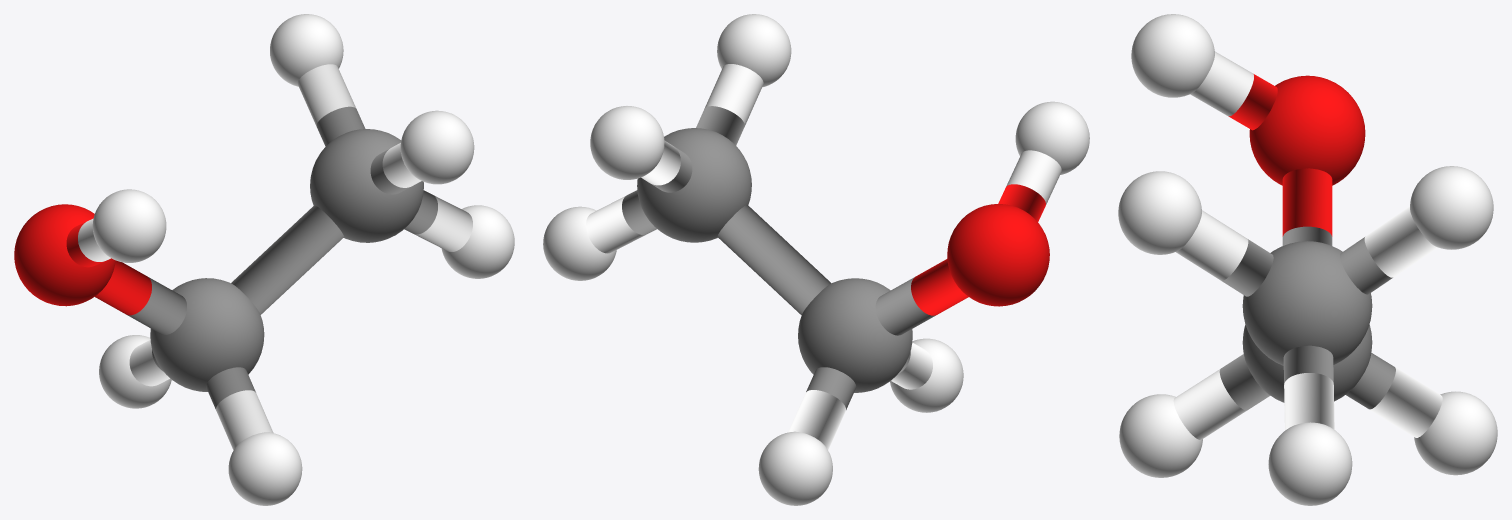
Rendered from 702.mol.obj.
3 renders of one model, left to right at view 1: azimuth 30°, elevation 25°; view 2: azimuth 150°, elevation 25°; view 3: azimuth 270°, elevation 25°, orthographic. The views are drawn at different scales.
Visible parts, largest first — view 1: C2_Atom, C3_Atom, O1_Atom, Cylinder11, H8_Atom, H9_Atom, H4_Atom, H7_Atom, H6_Atom, H5_Atom, Cylinder4, Cylinder10 (+11 smaller); view 2: C2_Atom, O1_Atom, C3_Atom, Cylinder11, H7_Atom, H5_Atom, H8_Atom, H9_Atom, H6_Atom, H4_Atom, Cylinder2, Cylinder8 (+11 smaller); view 3: C3_Atom, O1_Atom, H6_Atom, H8_Atom, H9_Atom, H7_Atom, H5_Atom, H4_Atom, Cylinder14, C2_Atom, Cylinder4, Cylinder2 (+11 smaller).
Part boxes in pixels (x1,y1,x2,y2): C2_Atom: (150, 278, 264, 391); C3_Atom: (310, 129, 423, 242); O1_Atom: (14, 204, 115, 306); Cylinder11: (231, 205, 343, 314); H8_Atom: (400, 110, 474, 184); H9_Atom: (92, 189, 166, 262); H4_Atom: (228, 432, 302, 505); H7_Atom: (270, 14, 343, 86); H6_Atom: (441, 205, 514, 278); H5_Atom: (99, 335, 171, 408); Cylinder4: (297, 64, 356, 125); Cylinder10: (216, 390, 273, 450); C2_Atom: (798, 278, 912, 392); O1_Atom: (947, 204, 1049, 306); C3_Atom: (637, 128, 751, 242); Cylinder11: (717, 205, 831, 314); H7_Atom: (590, 106, 664, 179); H5_Atom: (758, 431, 832, 505); H8_Atom: (717, 14, 791, 87); H9_Atom: (1015, 101, 1089, 174); H6_Atom: (543, 206, 616, 280); H4_Atom: (890, 338, 963, 412); Cylinder2: (704, 64, 763, 126); Cylinder8: (788, 390, 845, 450); C3_Atom: (1242, 241, 1372, 365); O1_Atom: (1249, 75, 1365, 185); H6_Atom: (1268, 422, 1352, 505); H8_Atom: (1118, 171, 1201, 254); H9_Atom: (1131, 14, 1214, 97); H7_Atom: (1410, 166, 1493, 249); H5_Atom: (1414, 391, 1497, 475); H4_Atom: (1119, 394, 1202, 477); Cylinder14: (1282, 168, 1332, 236); C2_Atom: (1242, 324, 1372, 402); Cylinder4: (1364, 206, 1437, 277); Cylinder2: (1176, 210, 1248, 280).
Size of the model in its own units: 3.88 by 2.65 by 2.29.
